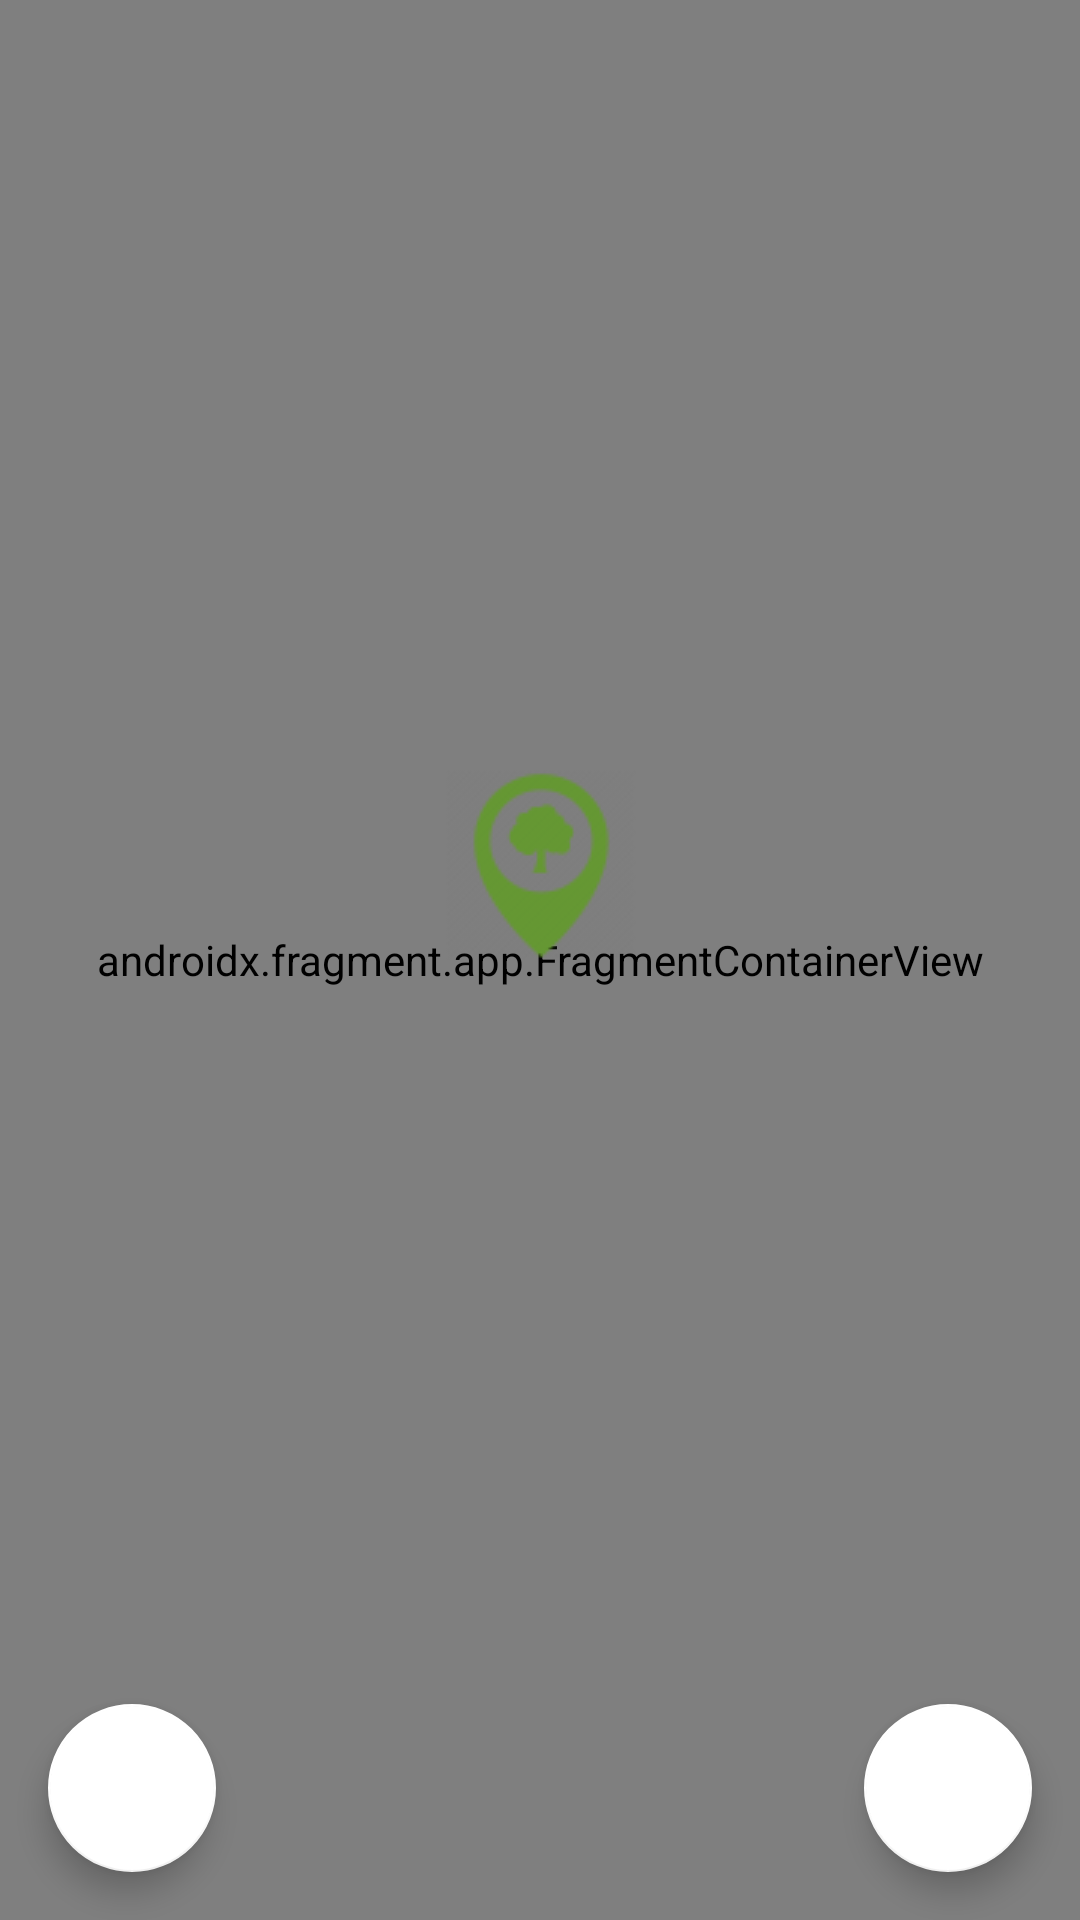

Where icons sit on this 1080px×1920px app screen, as (x1, y1, x2, y2):
Tree marker: (456, 774, 636, 960)
